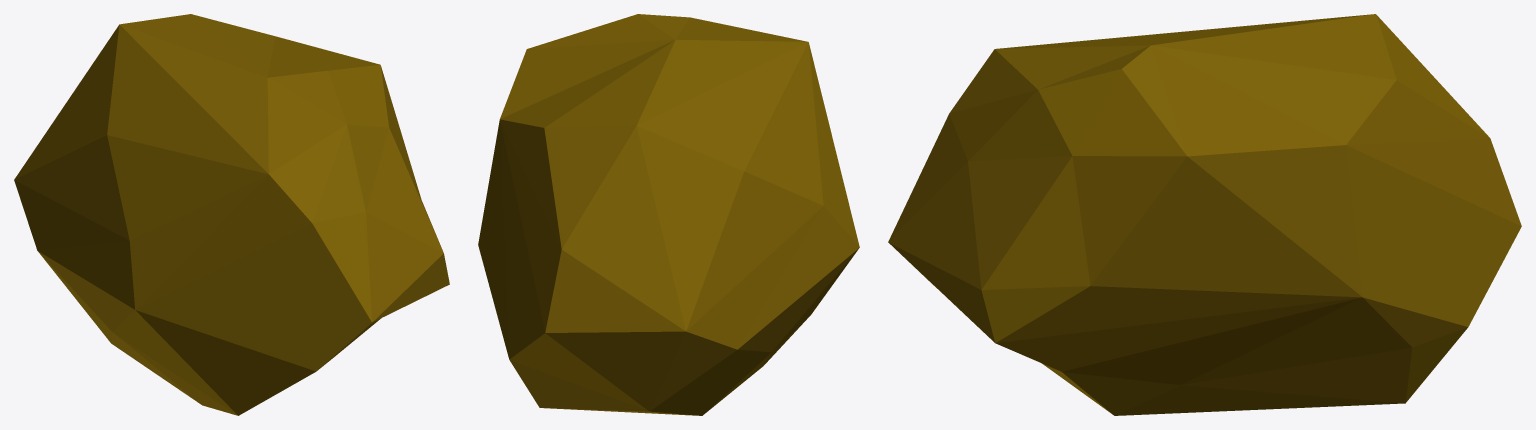
File: Rock_1.fbx
3 renders of one model, left to right at view 1: azimuth 30°, elevation 25°; view 2: azimuth 150°, elevation 25°; view 3: azimuth 270°, elevation 25°, orthographic. The views are drawn at different scales.
Parts seen in each view (by area): view 1: Rock_Div_1; view 2: Rock_Div_1; view 3: Rock_Div_1.
Part boxes in pixels (<box>): Rock_Div_1: <box>14,14,449,415</box>; Rock_Div_1: <box>478,14,859,415</box>; Rock_Div_1: <box>888,14,1521,415</box>.
Bounding box in the file's own units: 7.29 × 7.52 × 11.63.
